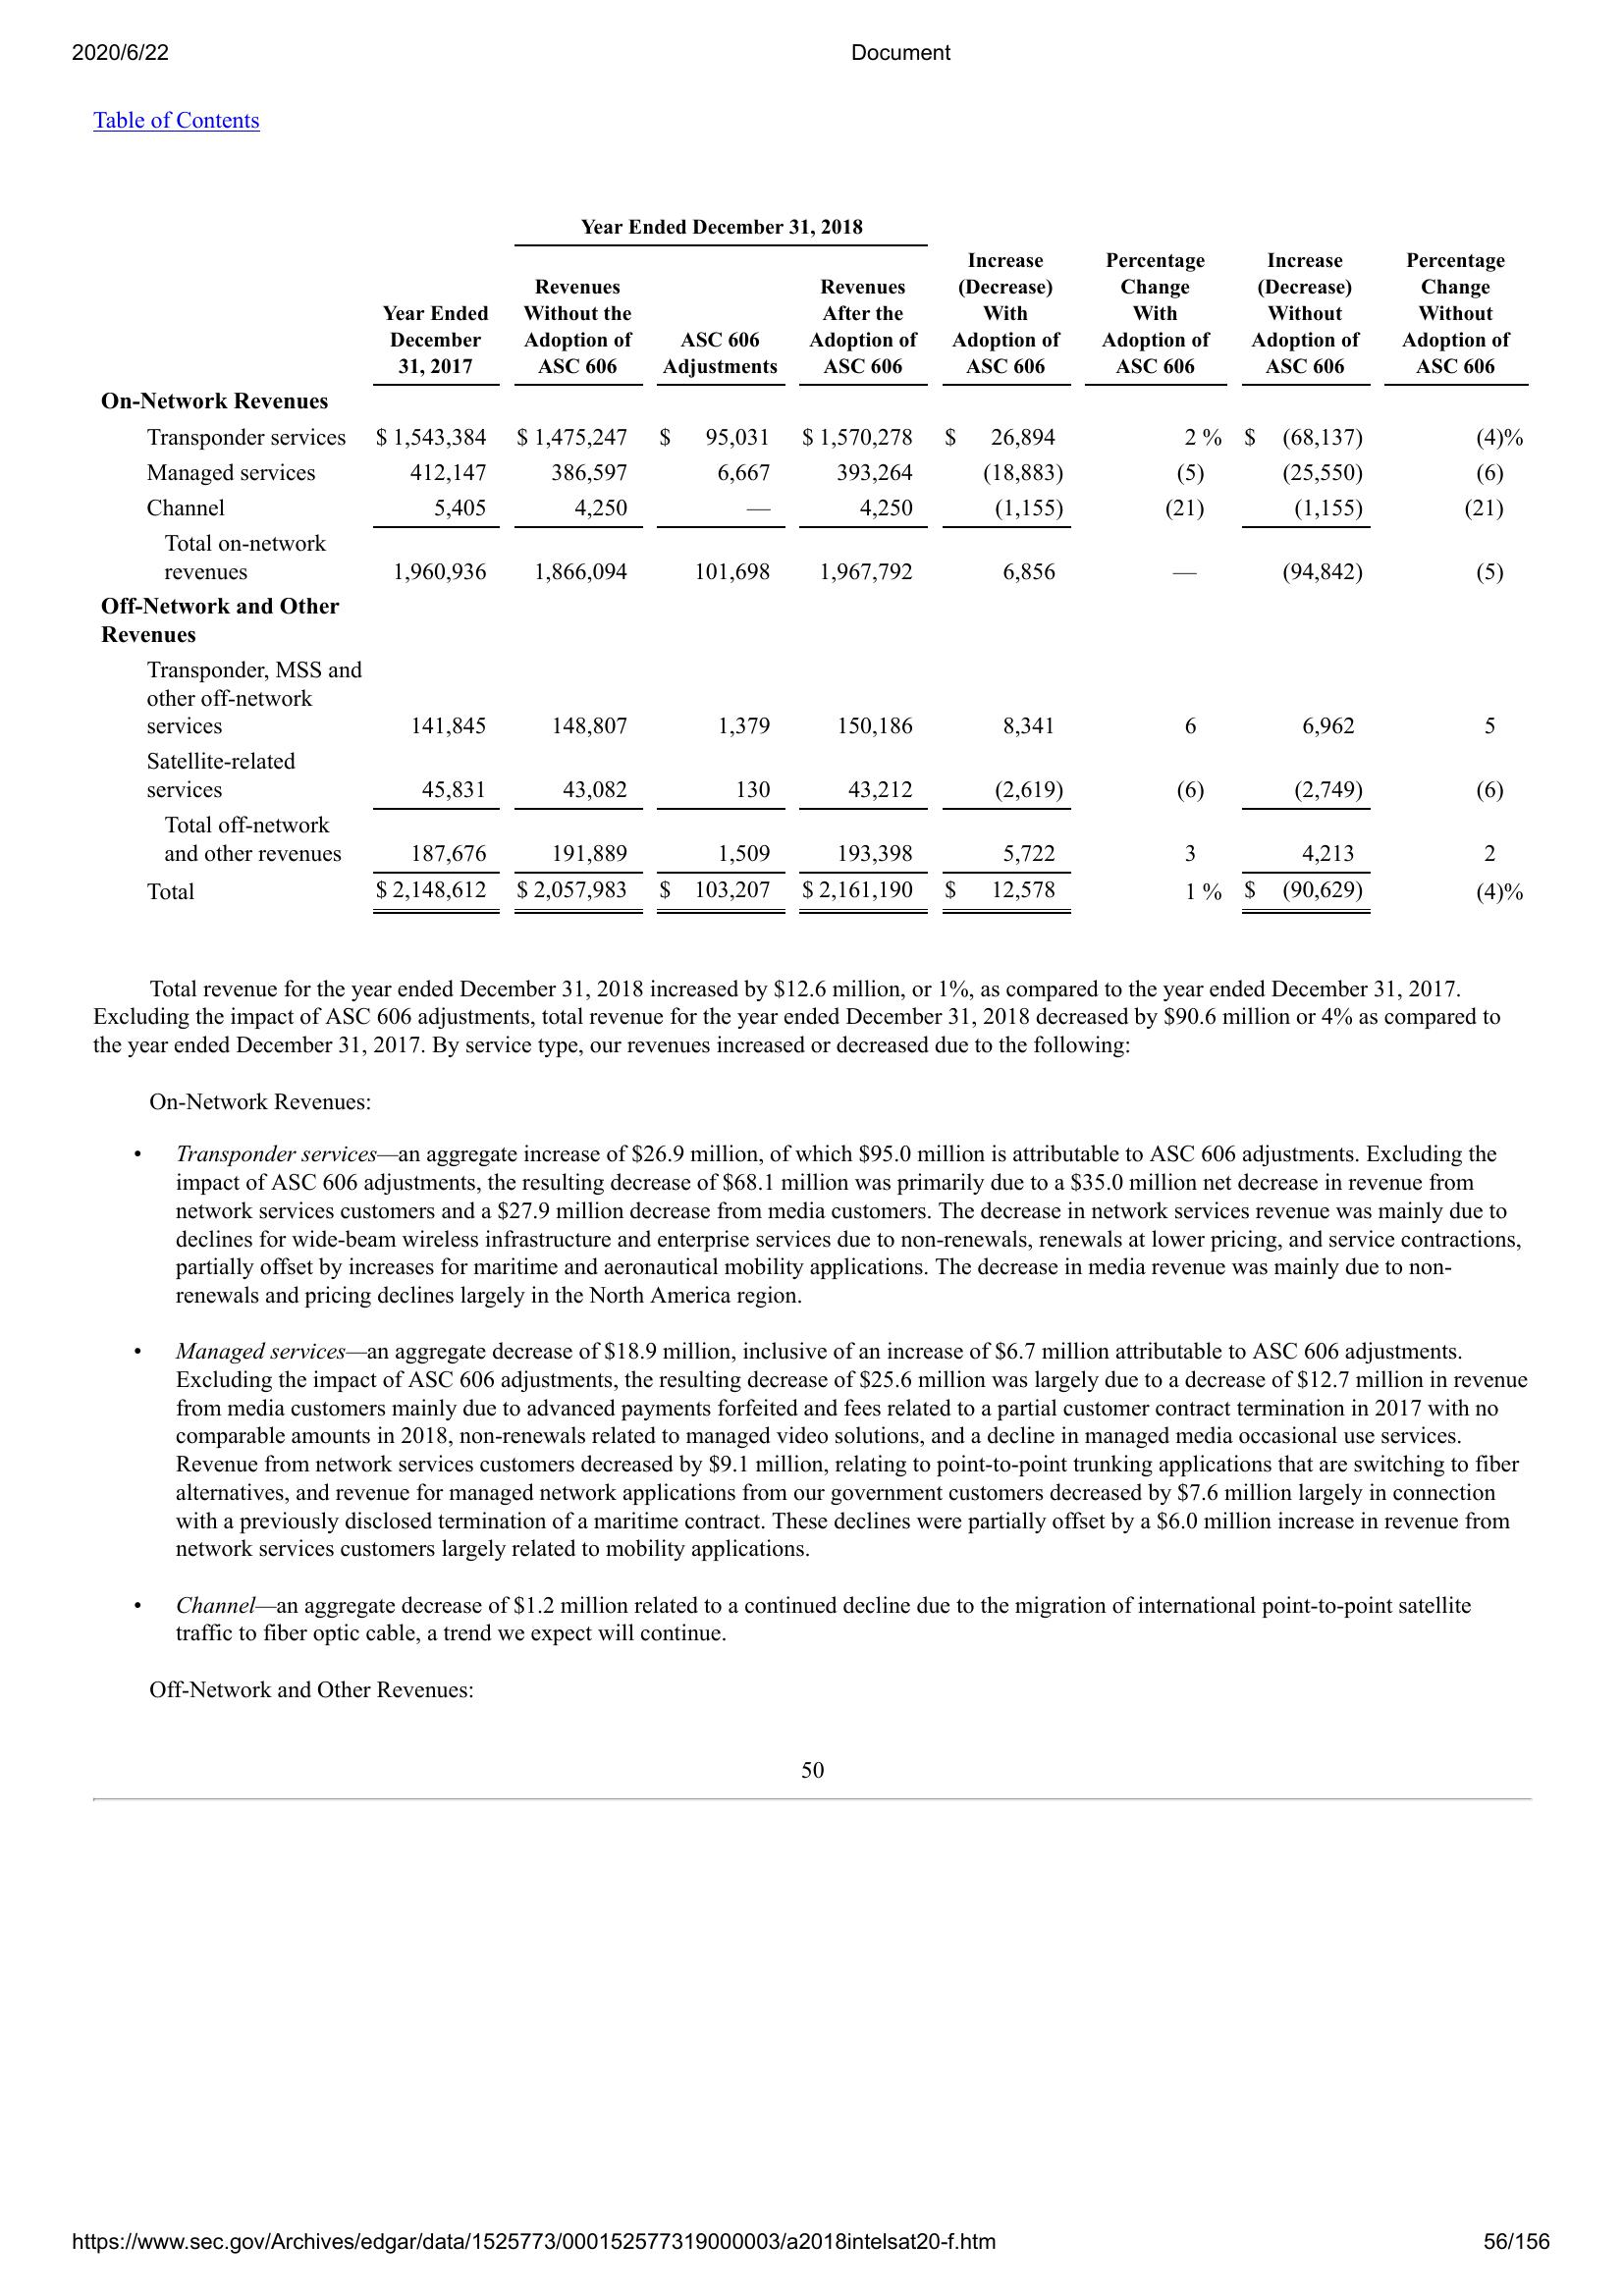table: (88, 205, 1539, 923)
